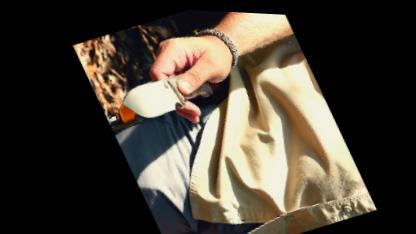knife: (94, 24, 226, 145)
